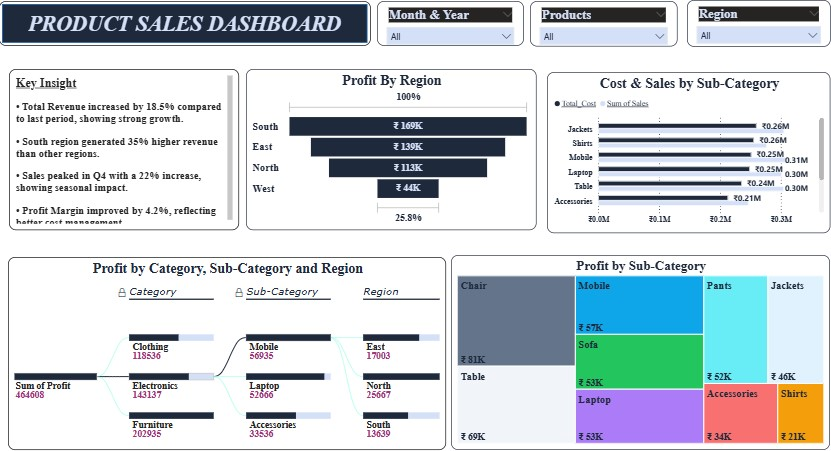

What the dashboard file says about the page in this screenshot:
{"tool":"powerbi","page":{"name":"Page 2","canvas":[1280,720],"ordinal":1},"visuals":[{"type":"textbox","box":[14.7,107.3,354.1,248.3],"z":0},{"type":"decompositionTreeVisual","title":"Profit by Category, Sub-Category and Region","fields":{"ExplainBy":["Sales_Dataset.Category","Sales_Dataset.Sub-Category","Sales_Dataset.Region"],"Analyze":["Sum(Sales_Dataset.Profit)"]},"box":[14.7,395.3,674.4,298.3],"z":1000},{"type":"treemap","title":"Profit by Sub-Category","fields":{"Values":["Sales_Dataset.Total_Profit"],"Group":["Sales_Dataset.Sub-Category"]},"box":[695,393.8,583.3,299.8],"z":2000},{"type":"slicer","fields":{"Values":["Data_Table.Month Name","Data_Table.Year"]},"box":[581.2,2.6,226.5,69.4],"z":3000},{"type":"shape","box":[0,2.9,571.6,69.1],"z":4000},{"type":"slicer","fields":{"Values":["Sales_Dataset.Sub-Category","Sales_Dataset.Category"]},"box":[816.4,3,226.9,70.1],"z":5000},{"type":"slicer","fields":{"Values":["Sales_Dataset.Region"]},"box":[1058.2,1.5,220.9,71.6],"z":6000},{"type":"funnel","title":"Profit By Region","fields":{"Category":["Sales_Dataset.Region"],"Y":["Sales_Dataset.Total_Profit"]},"box":[380.6,107.3,446.7,248.3],"z":7000},{"type":"clusteredBarChart","title":"Cost & Sales by Sub-Category","fields":{"Y":["Sales_Dataset.Total_Cost","Sum(Sales_Dataset.Sales)"],"Category":["Sales_Dataset.Sub-Category"]},"box":[843.4,111.7,436.4,248.3],"z":8000}]}

Visuals, with their boxes on the page's 1280x720 design canvas (x1, y1, x2, y2). These are canvas units, not pixel positions in the 831x451 screenshot, which may show the page scaled, cropped or inside an application window:
textbox: 15,107,369,356
"Profit by Category, Sub-Category and Region" decompositionTreeVisual: 15,395,689,694
"Profit by Sub-Category" treemap: 695,394,1278,694
slicer - Data_Table.Month Name x Data_Table.Year: 581,3,808,72
shape: 0,3,572,72
slicer - Sales_Dataset.Sub-Category x Sales_Dataset.Category: 816,3,1043,73
slicer - Sales_Dataset.Region: 1058,2,1279,73
"Profit By Region" funnel: 381,107,827,356
"Cost & Sales by Sub-Category" clusteredBarChart: 843,112,1280,360
